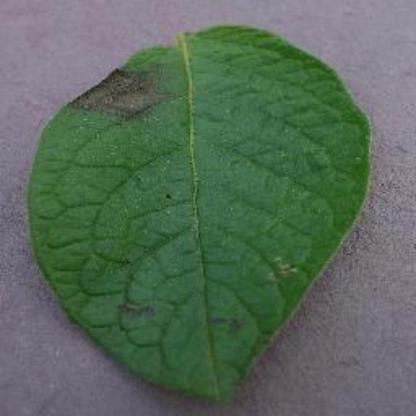Late-Blight: (31, 25, 370, 406)
